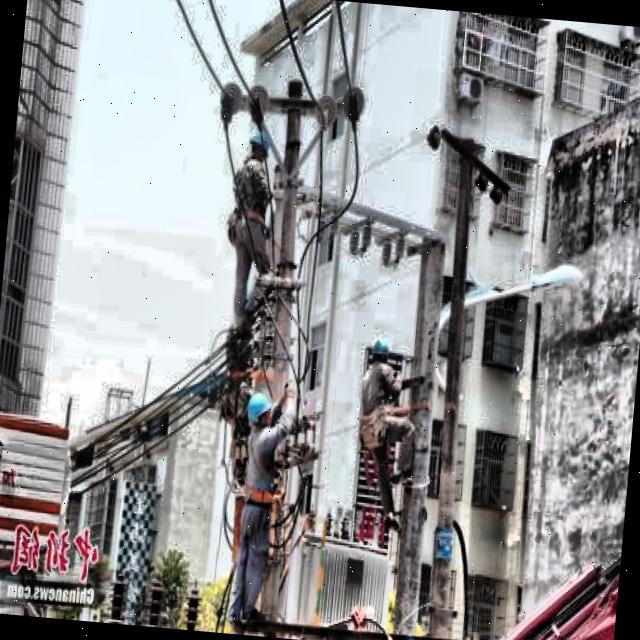helmet: (242, 388, 278, 437), (242, 120, 276, 166), (364, 332, 396, 378)
